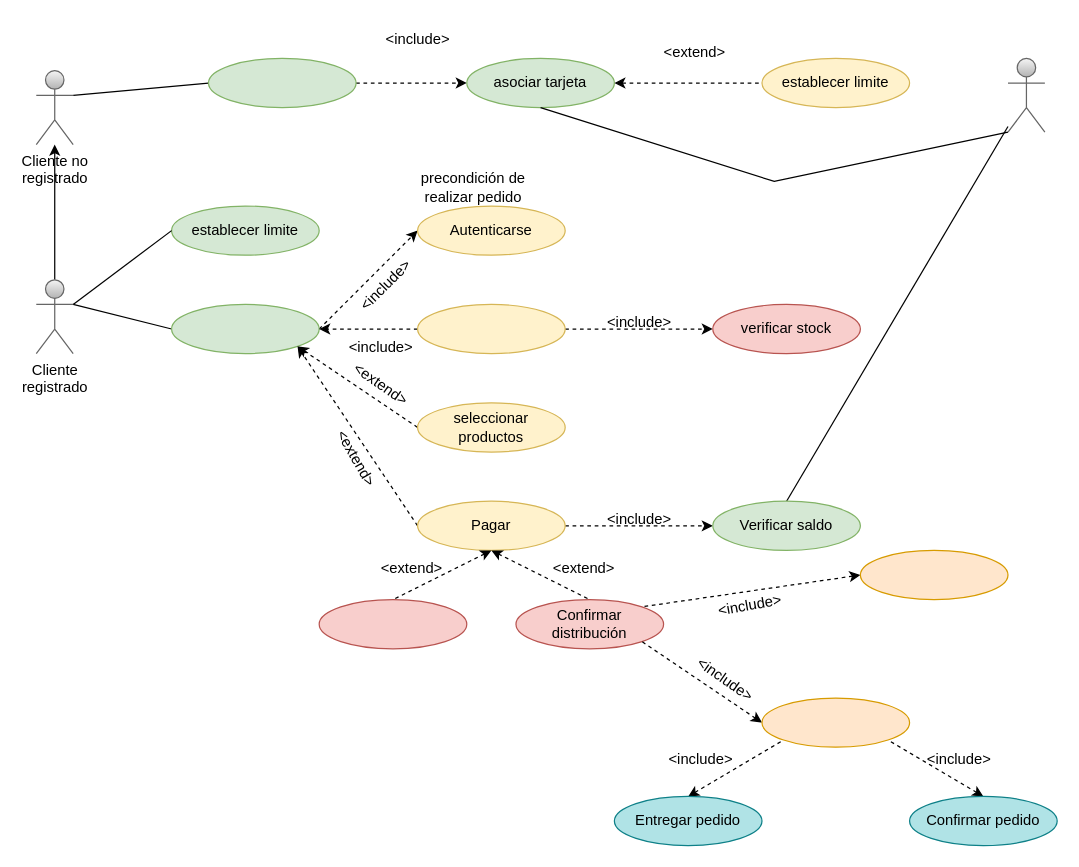
The diagram is 1079 pixels wide and 867 high, and some of its shapes have lost their labels. The box of each missing label's shape, as (x1, y1, x2, y2) in pixels:
banco: (1007, 57, 1045, 132)
mostrar productos: (416, 303, 565, 354)
Orden distribución: (859, 549, 1008, 600)
realizar pedido: (170, 303, 319, 354)
Rechaza: (318, 598, 467, 649)
registrarse: (207, 57, 356, 108)
Reparto: (761, 697, 910, 747)
